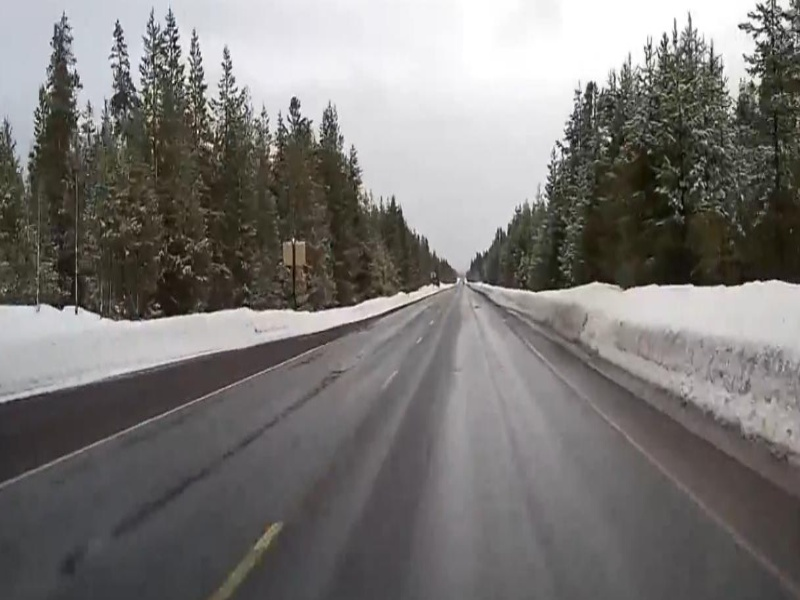pothole: (313, 369, 348, 389)
